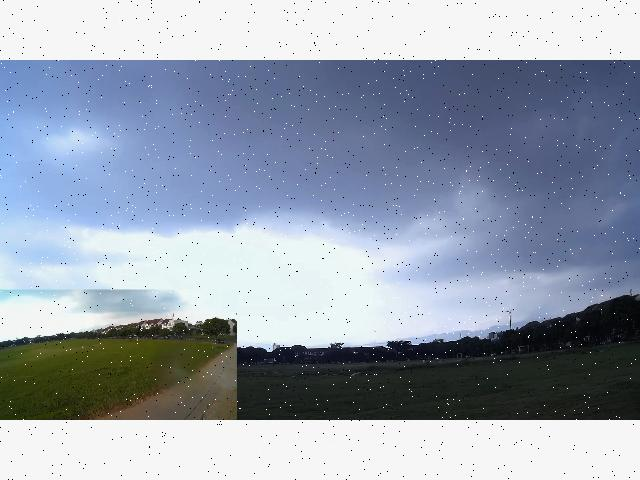Anti-Drone: (360, 323, 384, 337)
